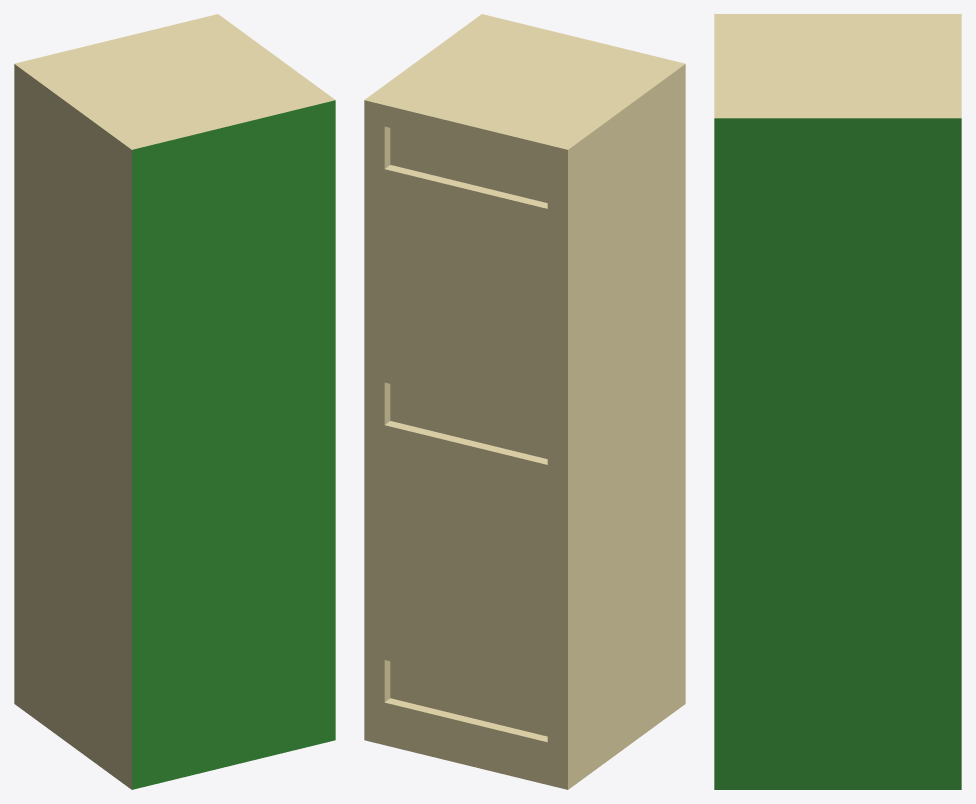
The model's file is s1 turn2.FBX.
The picture shows the model from 3 angles, left to right: view 1: azimuth 30°, elevation 25°; view 2: azimuth 150°, elevation 25°; view 3: azimuth 270°, elevation 25°; orthographic projection. The views are drawn at different scales.
Visible parts, largest first — view 1: Box243; view 2: Box243; view 3: Box243.
Part boxes in pixels (x1,y1,x2,y2): Box243: (14, 14, 335, 789); Box243: (364, 14, 685, 789); Box243: (714, 14, 961, 789).
Bounding box in the file's own units: 100 × 300 × 100.
